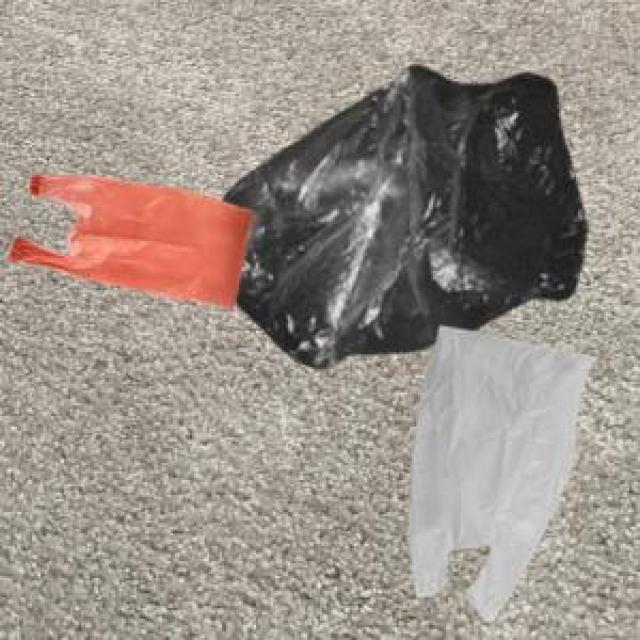waste: (226, 66, 586, 367), (411, 328, 589, 619), (12, 178, 252, 307)
